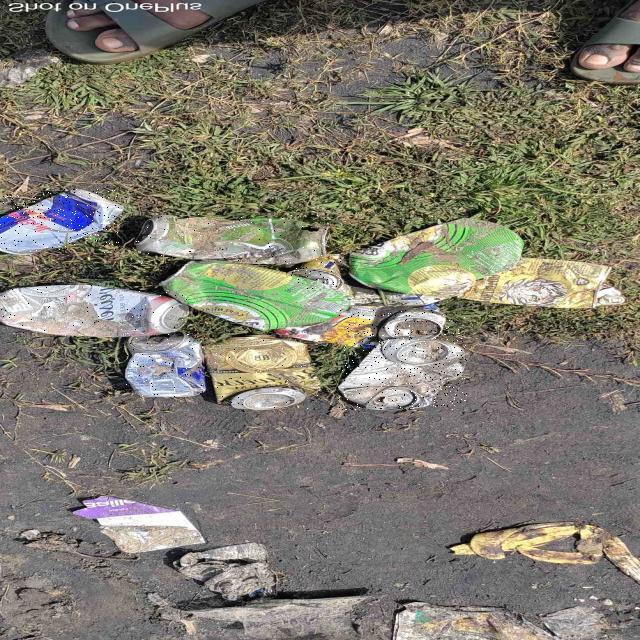metal: (338, 310, 467, 410), (0, 284, 187, 336), (134, 214, 327, 264), (203, 336, 318, 410), (0, 189, 120, 253), (124, 332, 203, 397), (286, 255, 343, 288)
